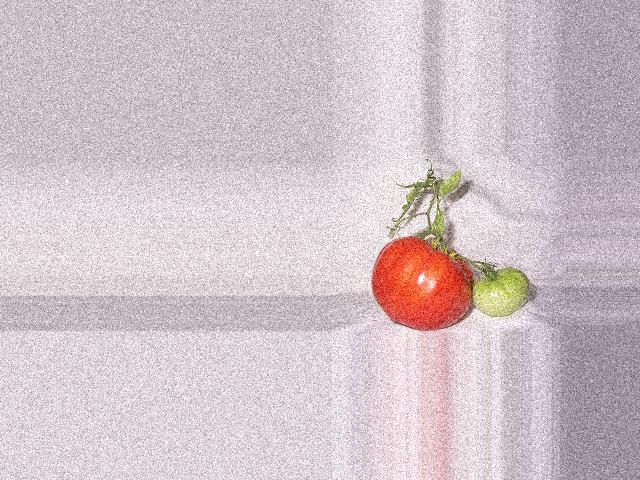tomato: (371, 236, 474, 330)
